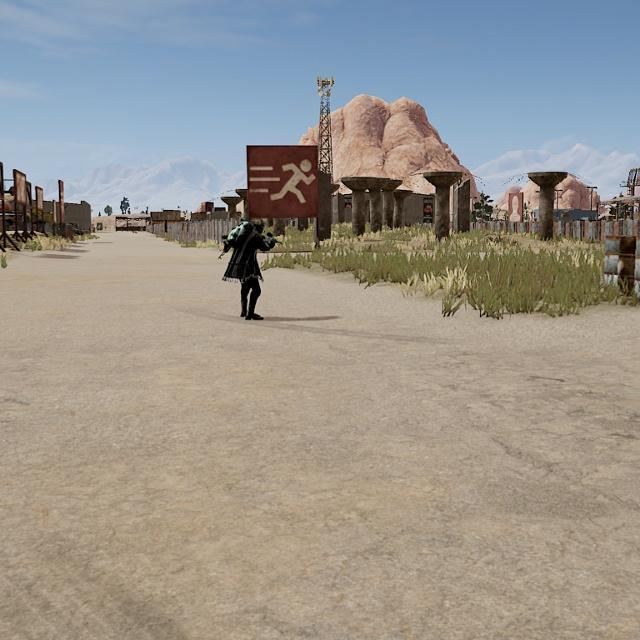head: (251, 217, 266, 234)
people: (224, 216, 271, 322)
